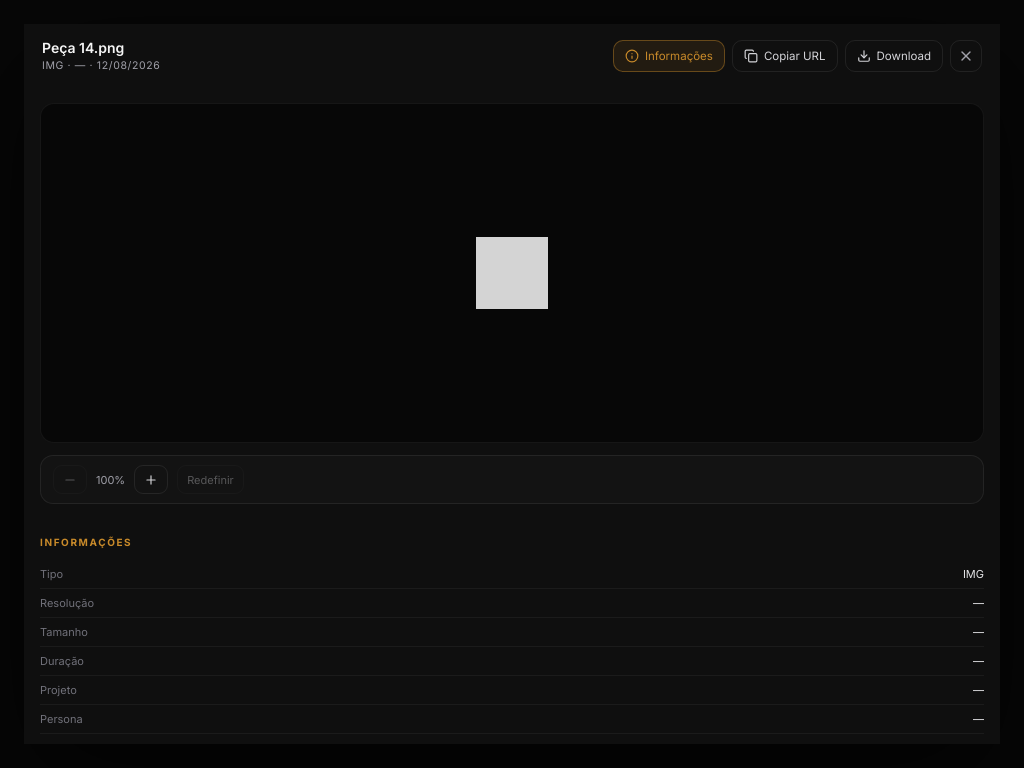
Test case: BibliotecaPreview › as informações podem ser escondidas e trazidas de volta
Expected: the element named "Informações do arquivo" is shown, x1=24 y1=520 x2=1000 y2=744
What coordinates should you click on to do the following:
click the button "Informações"
I would click on:
 (669, 56)
Its box is x1=613 y1=40 x2=725 y2=72.
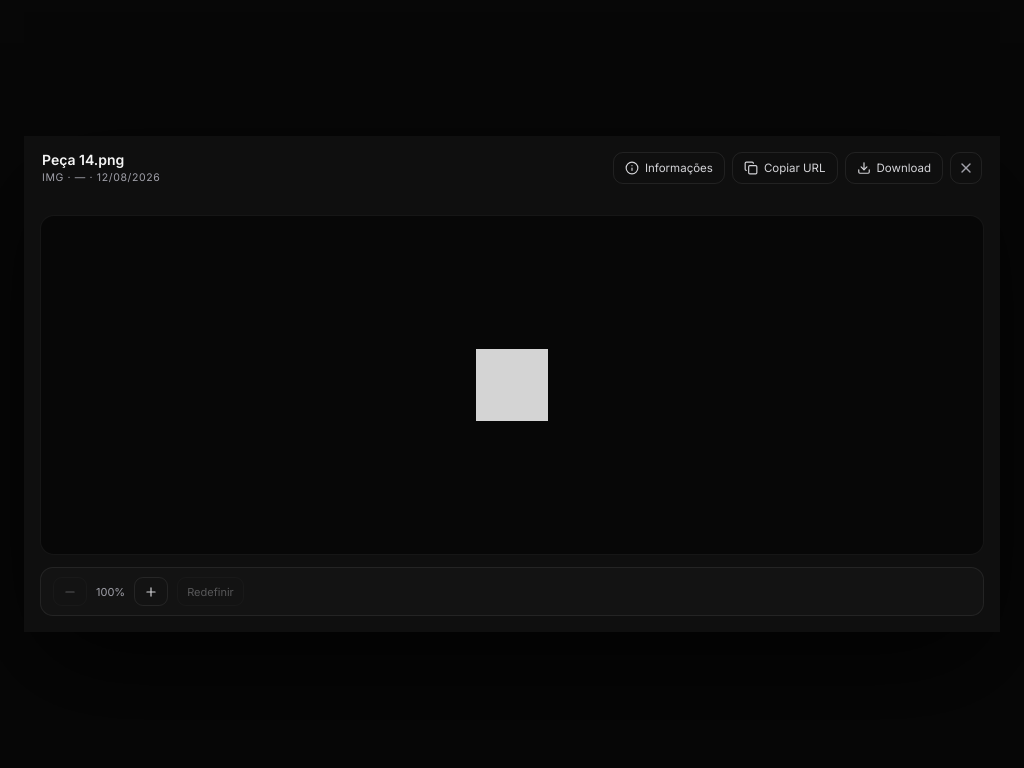
What coordinates should you click on to do the following:
click the button "Informações"
I would click on:
 (669, 168)
Its box is x1=613 y1=152 x2=725 y2=184.
(page scrolled)
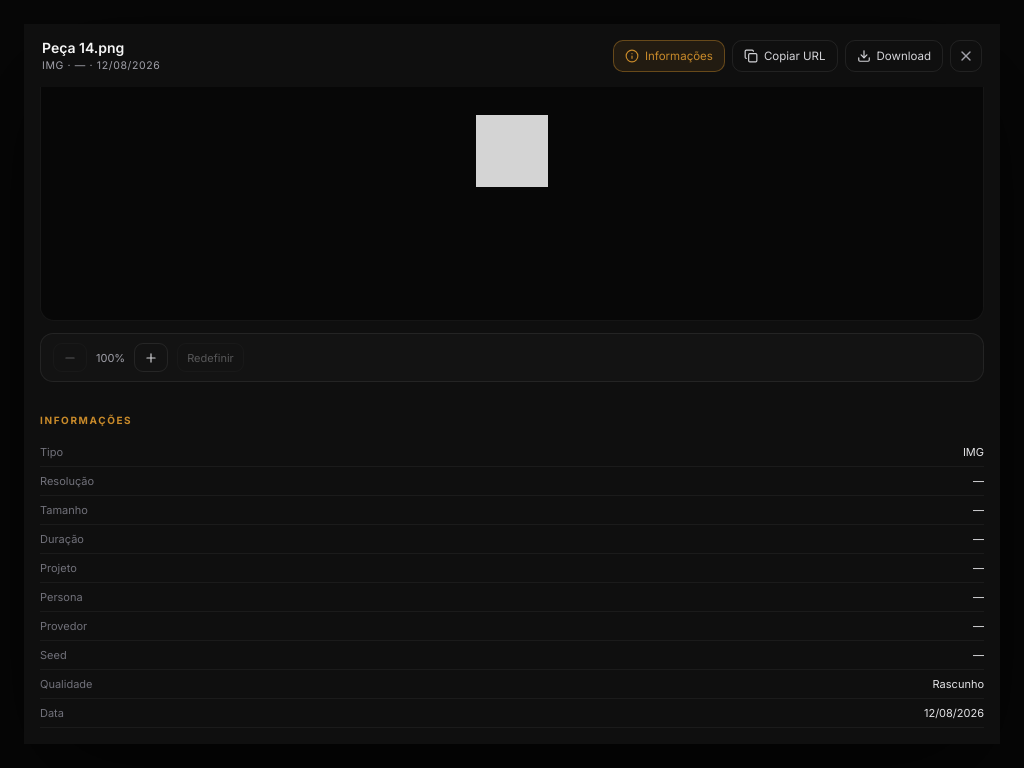
Result: the element named "Informações do arquivo" is shown at x1=24 y1=398 x2=1000 y2=744
